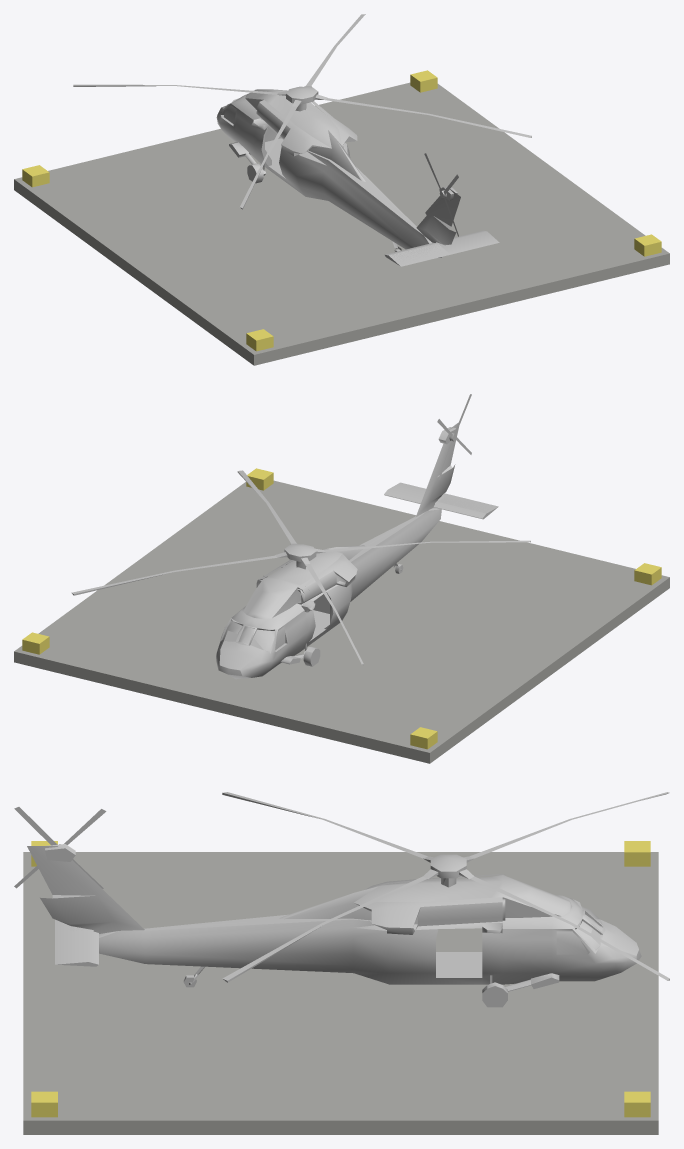
The picture shows the model from 3 angles, top to bottom: view 1: azimuth 30°, elevation 25°; view 2: azimuth 150°, elevation 25°; view 3: azimuth 270°, elevation 25°; orthographic projection. The views are drawn at different scales.
Visible parts, largest first — view 1: object 2, Group; view 2: object 2, Group; view 3: object 2, Group.
Boxes of the visible parts, bbox=[...] form: object 2: bbox=[14, 70, 669, 365]; Group: bbox=[73, 14, 531, 266]; object 2: bbox=[14, 468, 669, 763]; Group: bbox=[71, 394, 530, 679]; object 2: bbox=[23, 841, 658, 1134]; Group: bbox=[14, 792, 669, 1007].
Size of the model in its own units: 12 by 3.96 by 12.39.
